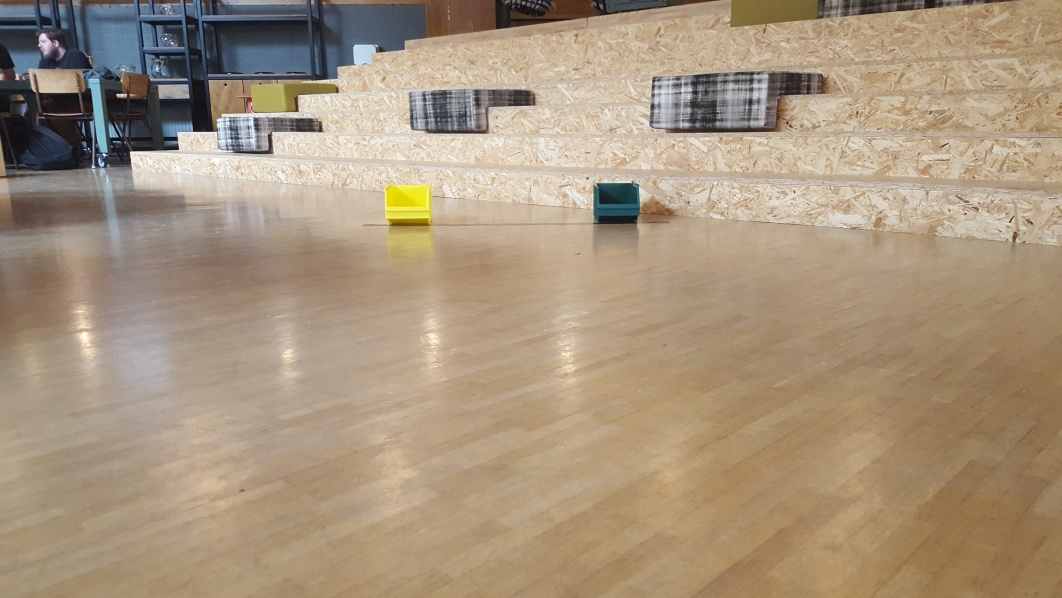tray: (586, 179, 647, 222), (381, 181, 434, 225)
